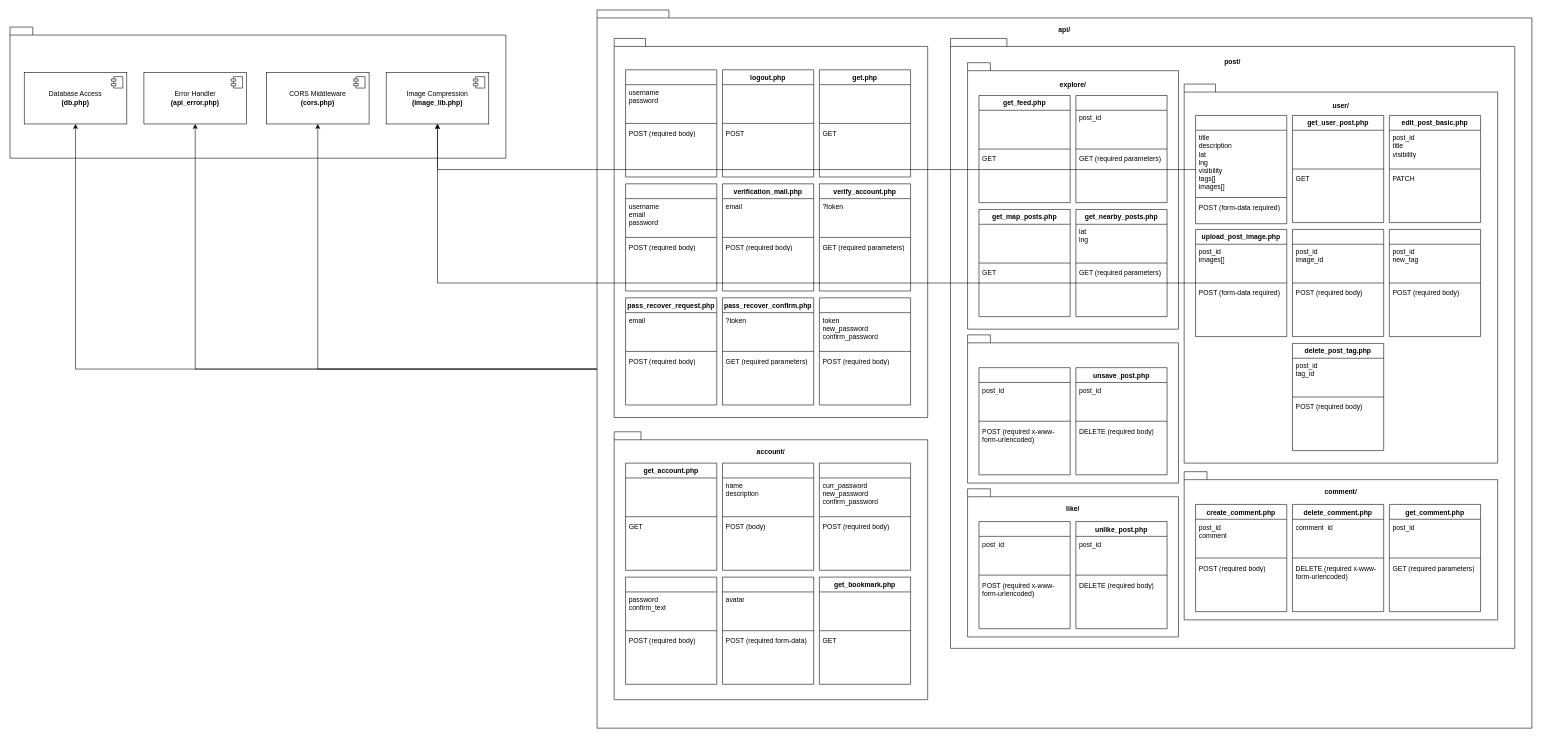
The diagram is 1542 pixels wide and 738 high, and some of its shapes have lost their labels. The box of each missing label's shape, as (x1, y1, x2, y2) in pixels:
add_post_tag.php: (1389, 229, 1481, 337)
auth/: (614, 38, 928, 418)
bookmark/: (967, 334, 1178, 483)
change_password.php: (819, 463, 911, 570)
create.php: (1195, 115, 1287, 224)
delete_account.php: (625, 577, 717, 684)
delete_post_image.php: (1292, 229, 1384, 337)
edit_account_info.php: (722, 463, 814, 570)
edit_avatar.php: (722, 577, 814, 684)
get_post.php: (1075, 95, 1167, 203)
includes/: (9, 27, 506, 158)
like_post.php: (978, 521, 1070, 629)
login.php: (625, 69, 717, 177)
pass_recover_reset.php: (819, 297, 911, 405)
register.php: (625, 183, 717, 291)
save_post.php: (978, 367, 1070, 475)
